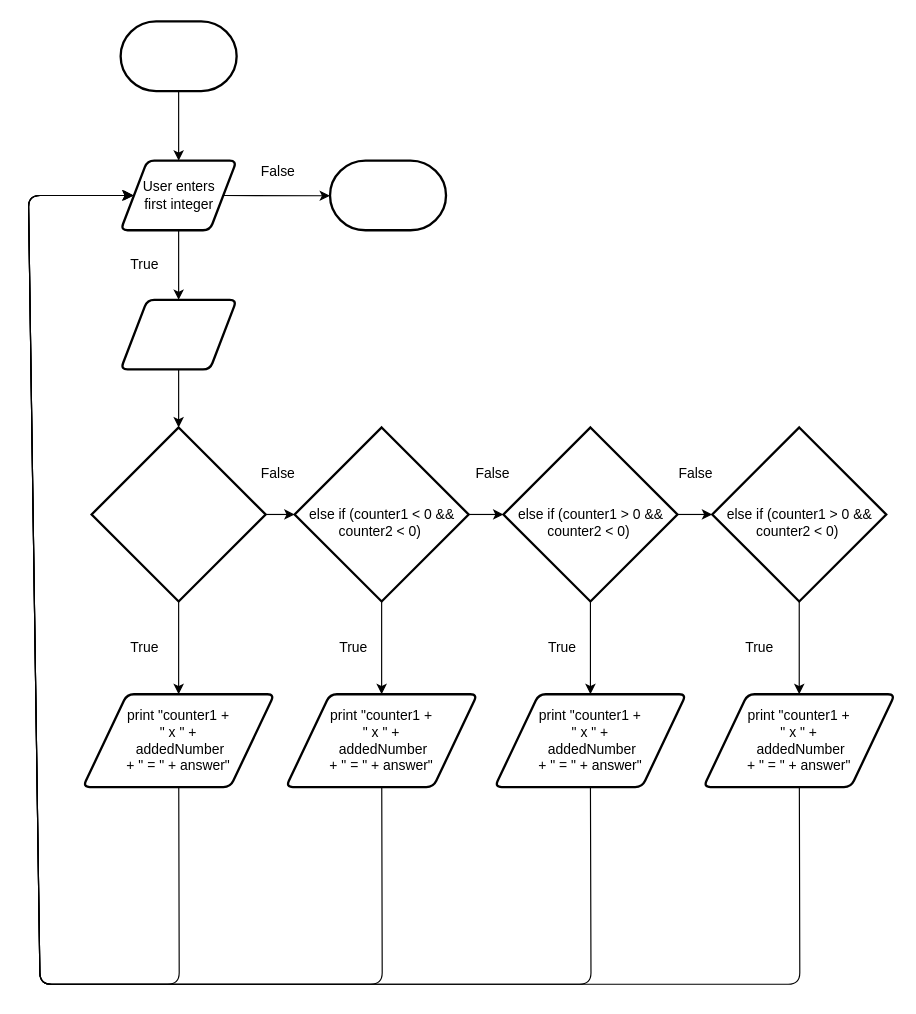
This 916x1014 diagram has some shape labels left out. The centre of each missing label's shape, as x and y in pixels:
if (counter1 > 0 && counter2 > 0): (x=178, y=514)
Start: (x=178, y=56)
Stop: (x=387, y=195)
User enters second integer: (x=178, y=334)
